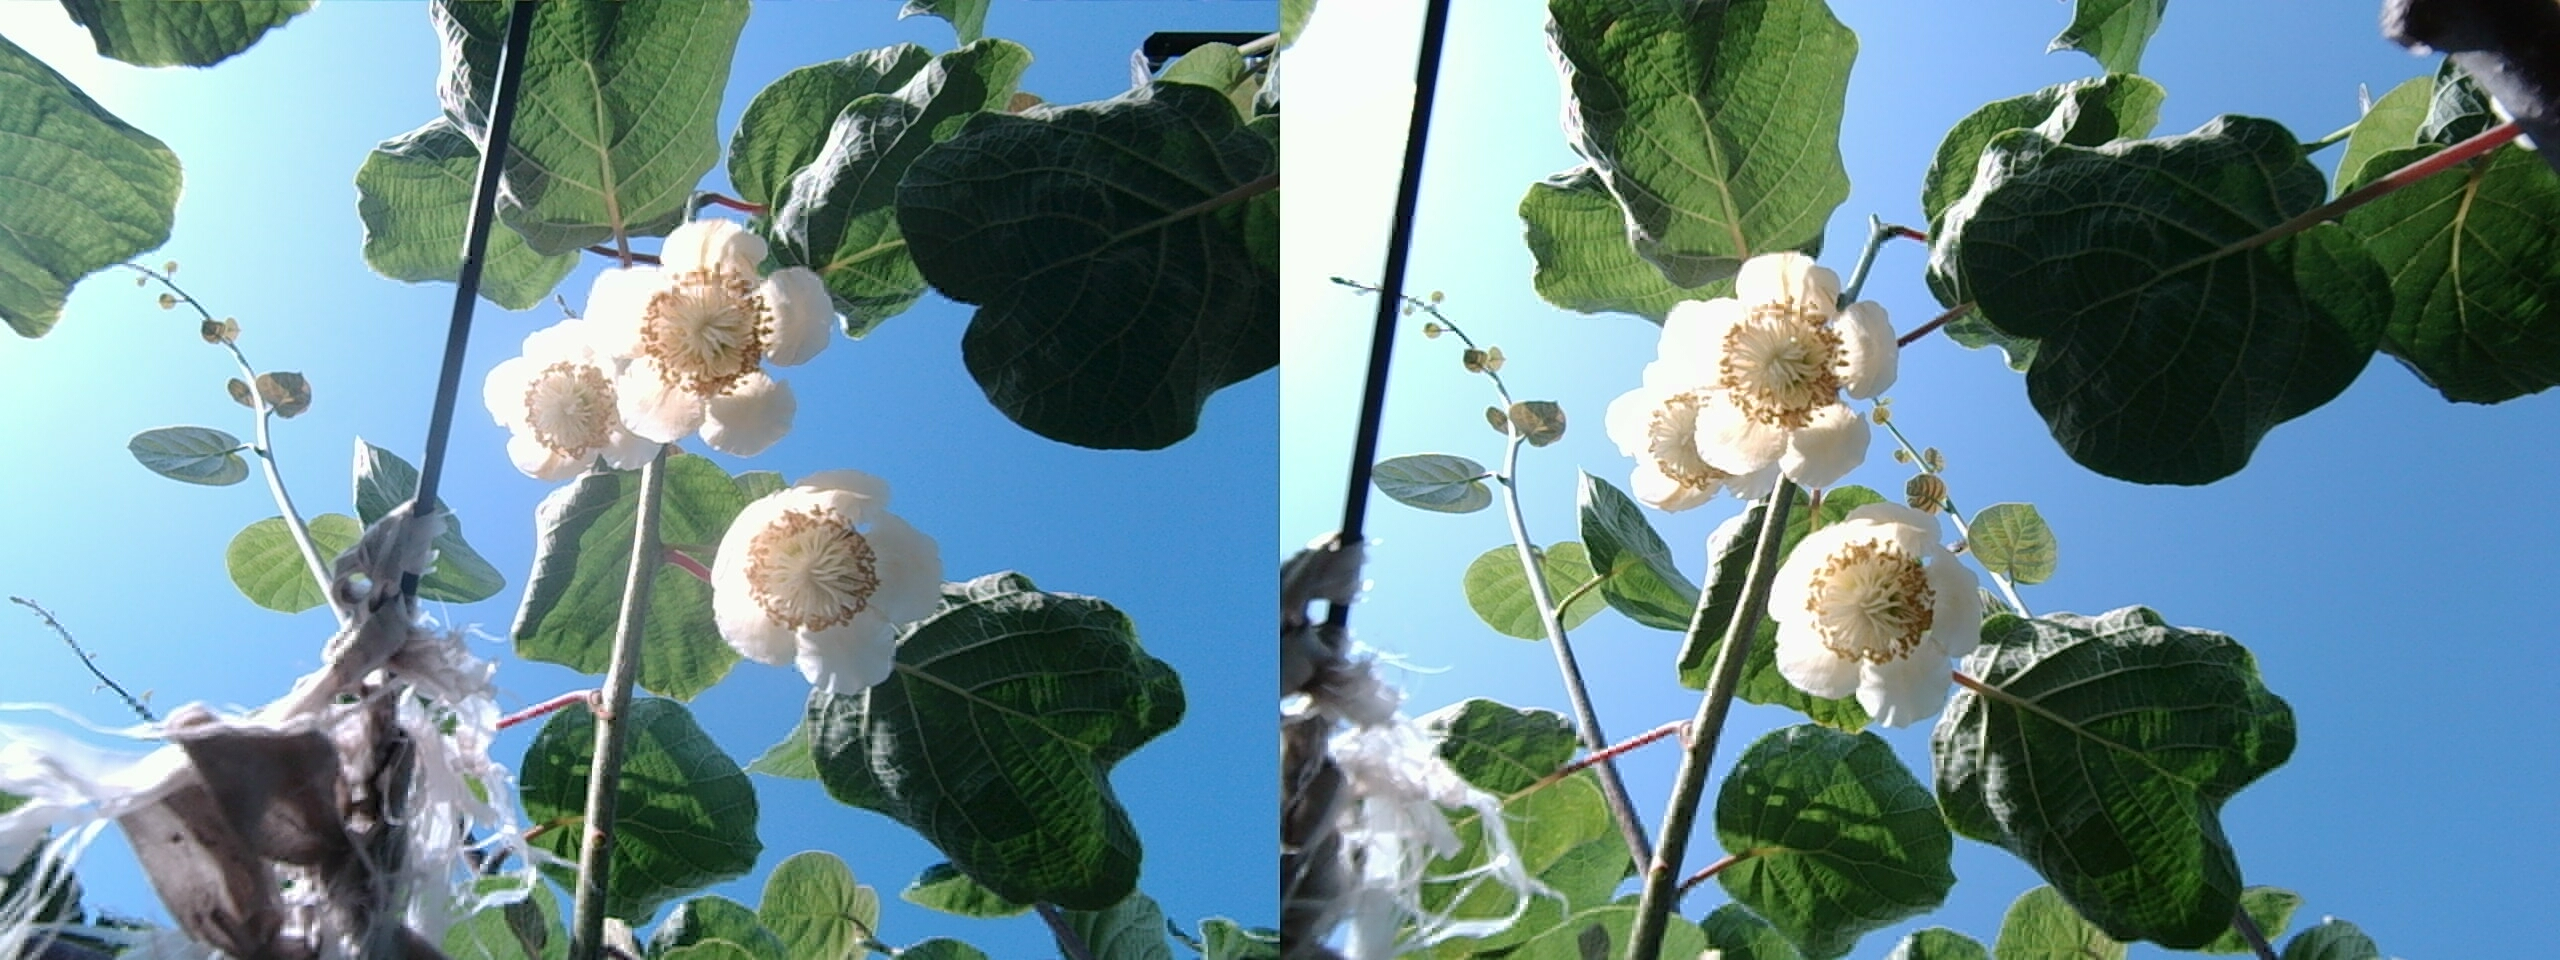flower: (1620, 247, 1892, 493), (563, 216, 810, 456), (705, 459, 936, 692), (1767, 504, 1984, 723), (480, 318, 658, 473)
